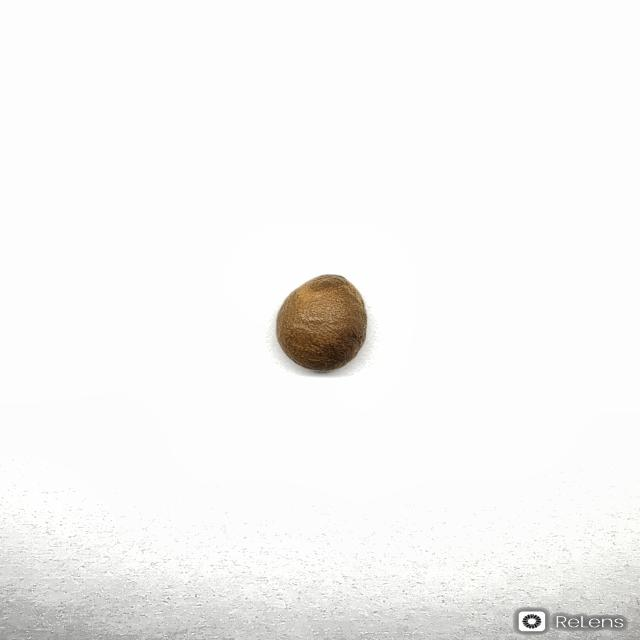Good bean: (274, 273, 368, 372)
